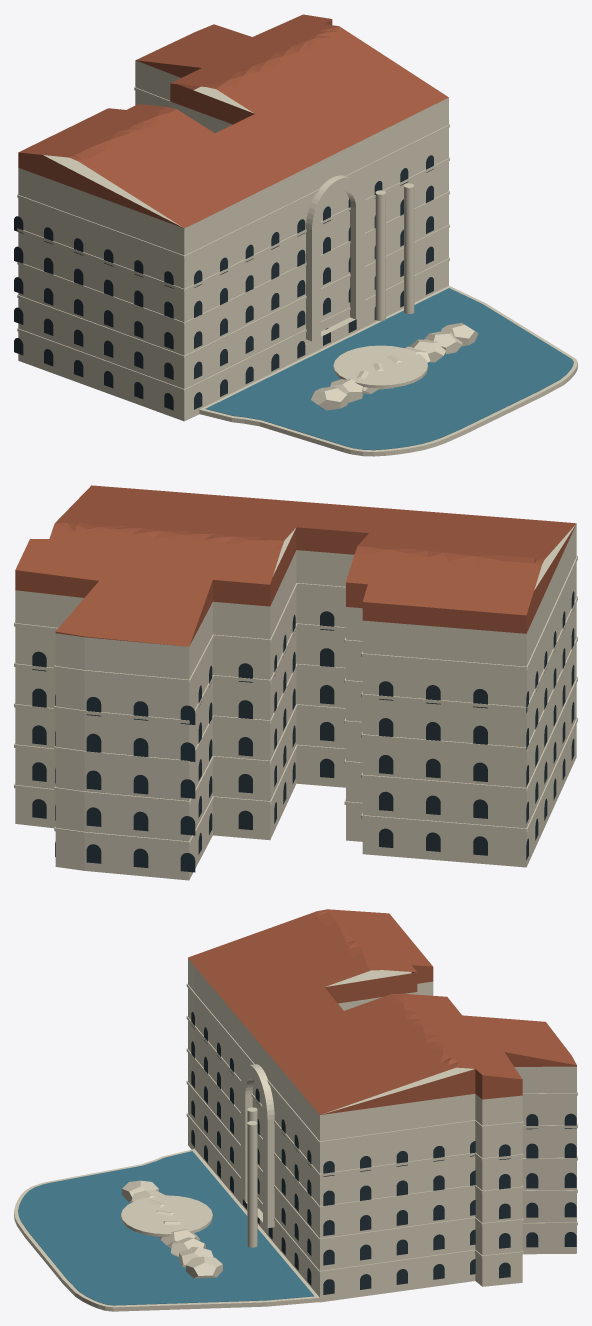
File: trevi.glb
The picture shows the model from 3 angles, top to bottom: view 1: azimuth 30°, elevation 25°; view 2: azimuth 150°, elevation 25°; view 3: azimuth 270°, elevation 25°; orthographic projection. The views are drawn at different scales.
Visible parts, largest first — view 1: palazzo-poli, roof, fountain-water, facade-windows, storey-bands, central-triumphal-fountain-niche, fountain-basin, fountain-rock-base, fountain-bowl, fountain-corinthian-columns; view 2: palazzo-poli, roof, facade-windows, storey-bands; view 3: palazzo-poli, roof, fountain-water, facade-windows, storey-bands, fountain-basin, central-triumphal-fountain-niche, fountain-bowl, fountain-rock-base, fountain-corinthian-columns.
Boxes of the visible parts, x1=… form: palazzo-poli: x1=18, y1=60, x2=448, y2=421; roof: x1=18, y1=14, x2=448, y2=228; fountain-water: x1=205, y1=288, x2=573, y2=450; facade-windows: x1=14, y1=155, x2=433, y2=410; storey-bands: x1=17, y1=87, x2=449, y2=392; central-triumphal-fountain-niche: x1=306, y1=175, x2=364, y2=341; fountain-basin: x1=199, y1=286, x2=577, y2=456; fountain-rock-base: x1=311, y1=323, x2=478, y2=410; fountain-bowl: x1=333, y1=345, x2=427, y2=388; fountain-corinthian-columns: x1=375, y1=183, x2=414, y2=320; palazzo-poli: x1=15, y1=524, x2=576, y2=880; roof: x1=15, y1=485, x2=576, y2=646; facade-windows: x1=32, y1=591, x2=574, y2=872; storey-bands: x1=14, y1=555, x2=577, y2=844; palazzo-poli: x1=188, y1=958, x2=576, y2=1302; roof: x1=188, y1=909, x2=576, y2=1114; fountain-water: x1=18, y1=1151, x2=314, y2=1305; facade-windows: x1=191, y1=1012, x2=576, y2=1294; storey-bands: x1=186, y1=983, x2=577, y2=1273; fountain-basin: x1=14, y1=1149, x2=319, y2=1311; central-triumphal-fountain-niche: x1=241, y1=1064, x2=274, y2=1228; fountain-bowl: x1=121, y1=1195, x2=212, y2=1236; fountain-rock-base: x1=122, y1=1180, x2=222, y2=1278; fountain-corinthian-columns: x1=247, y1=1107, x2=257, y2=1247.
Bounding box in the file's own units: 13.26 × 6.76 × 16.
